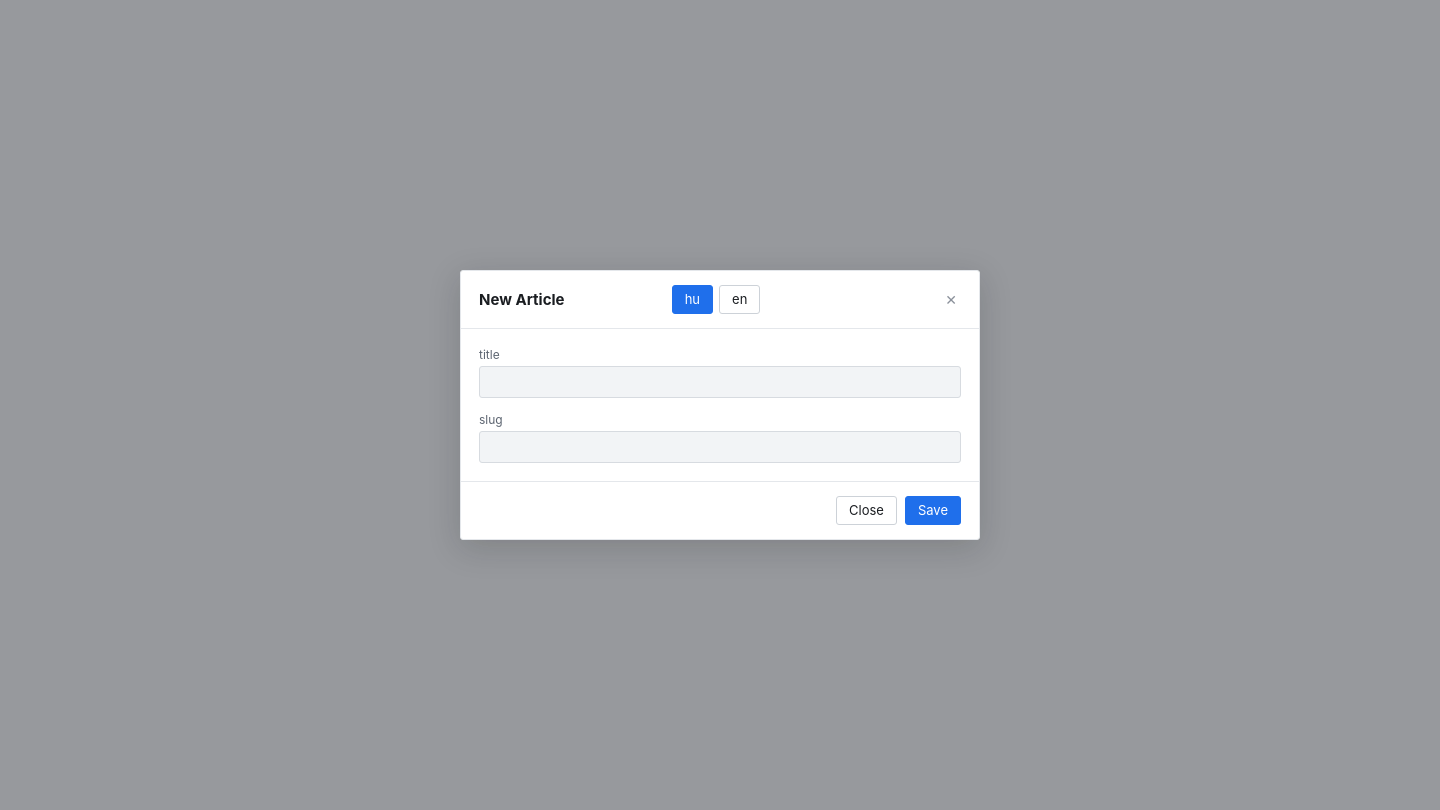
Test: fillFrom › fills the empty slug when the title loses focus, with the free value the server answers
The width and height of the screenshot is (1440, 810).
Type "Esemény utáni tabletták" into the field labelled "title".
click(720, 382); type("Esemény utáni tabletták")  # box [480, 367, 960, 397]
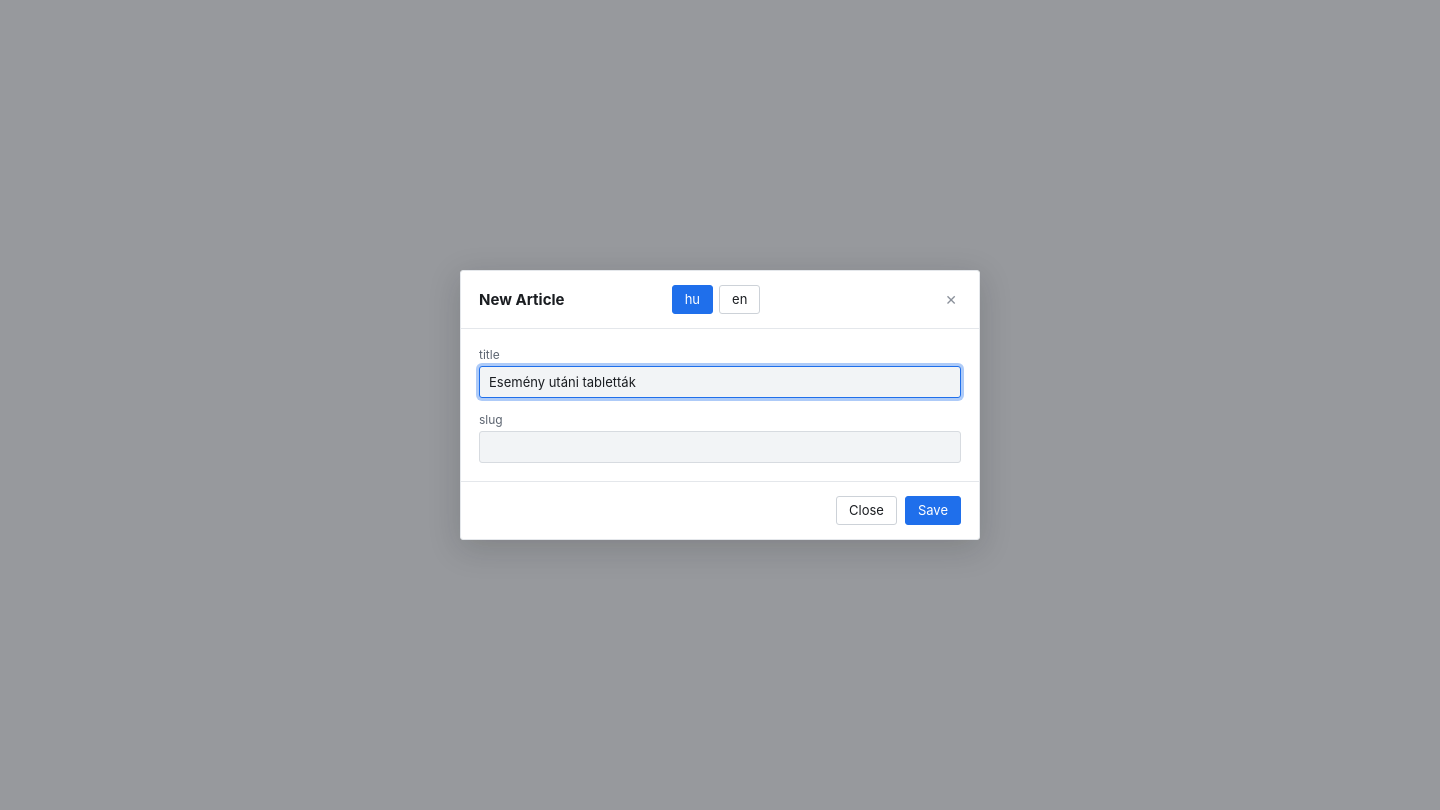
Press Tab
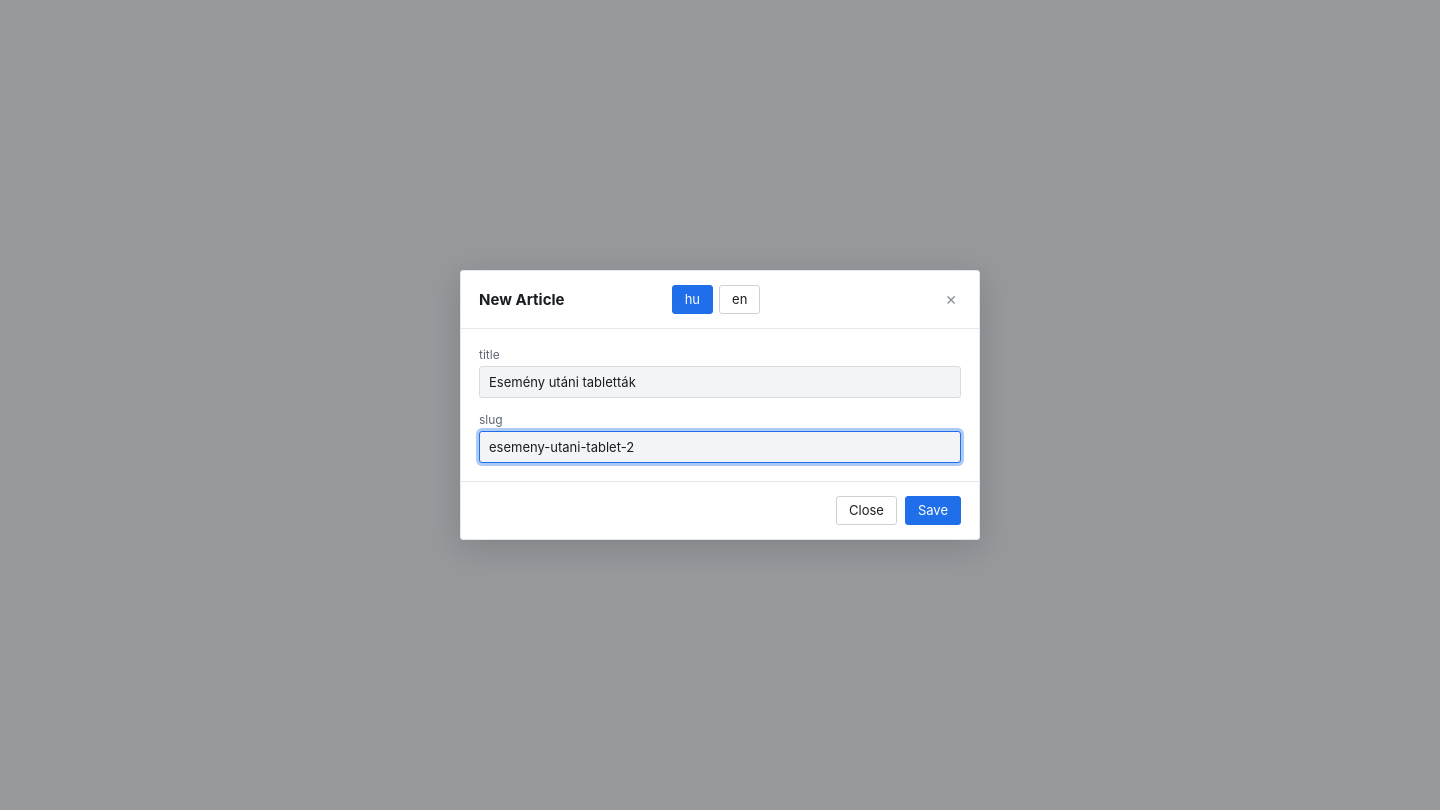
Now the field labelled "slug" holds "esemeny-utani-tablet-2", box [480, 432, 960, 462]
